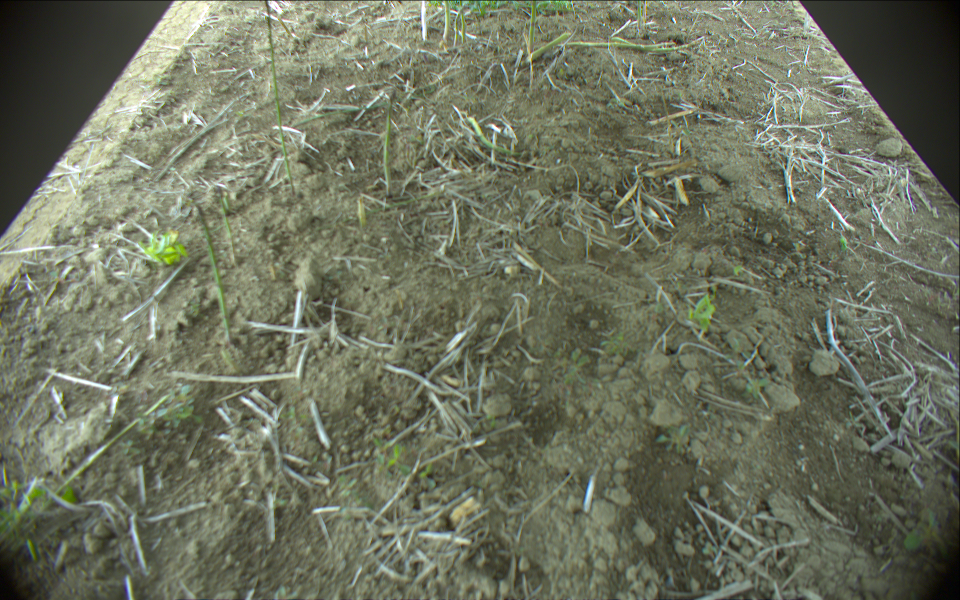aspa: (34, 393, 170, 513), (262, 1, 297, 189), (192, 203, 236, 341), (467, 116, 523, 158), (380, 90, 401, 196), (216, 189, 241, 267), (523, 29, 571, 67), (557, 39, 688, 52), (525, 1, 538, 52), (454, 2, 469, 46), (277, 13, 295, 38), (356, 193, 367, 230), (632, 1, 645, 30), (442, 1, 450, 39), (458, 12, 468, 42)
